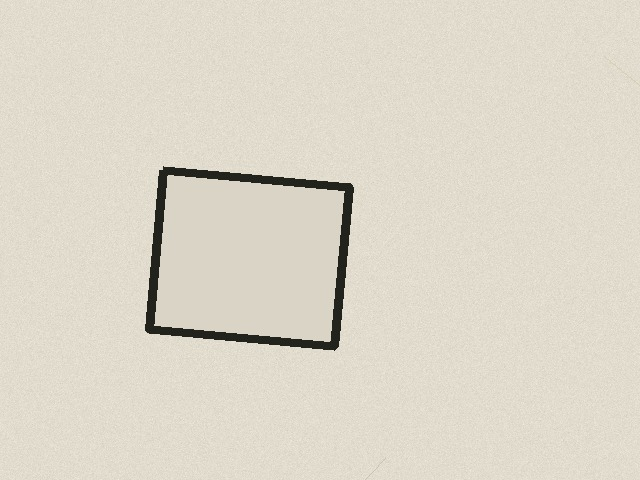parking_area: (149, 170, 349, 346)
